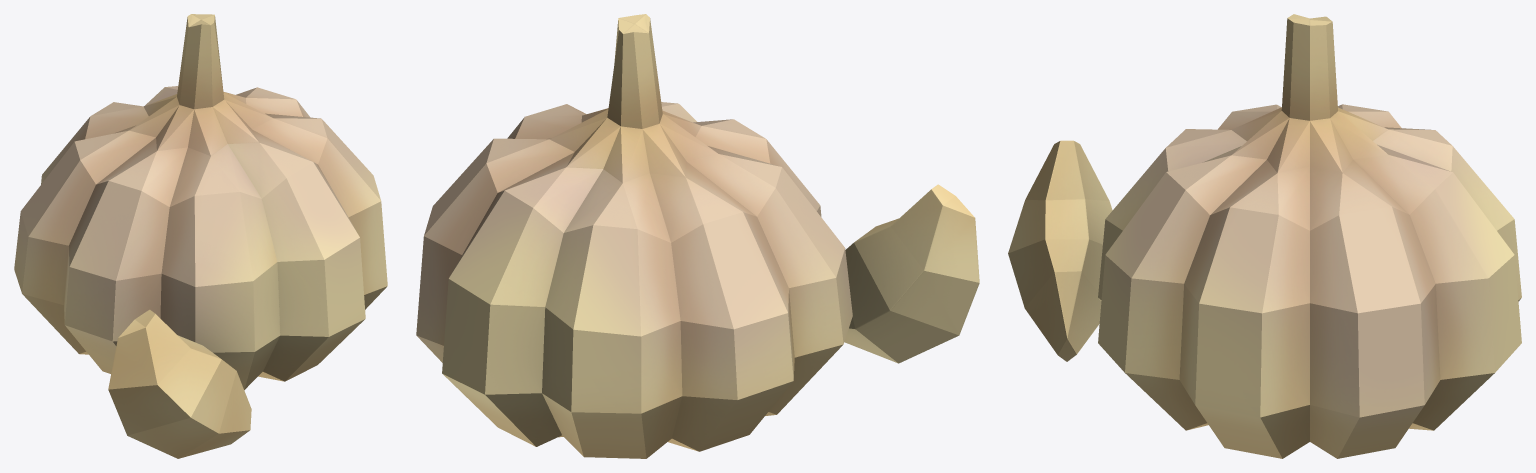
Rendered from garlic.obj.
3 renders of one model, left to right at view 1: azimuth 30°, elevation 25°; view 2: azimuth 150°, elevation 25°; view 3: azimuth 270°, elevation 25°, orthographic. The views are drawn at different scales.
Visible parts, largest first — view 1: Garlic_mesh; view 2: Garlic_mesh; view 3: Garlic_mesh.
Boxes of the visible parts, x1,y1,x2,y2 form: Garlic_mesh: (14,14,387,458); Garlic_mesh: (416,14,979,458); Garlic_mesh: (1008,14,1521,458).
Bounding box in the file's own units: 5.01 × 4.58 × 5.45.
Materials: 1 (1 with a texture image).
